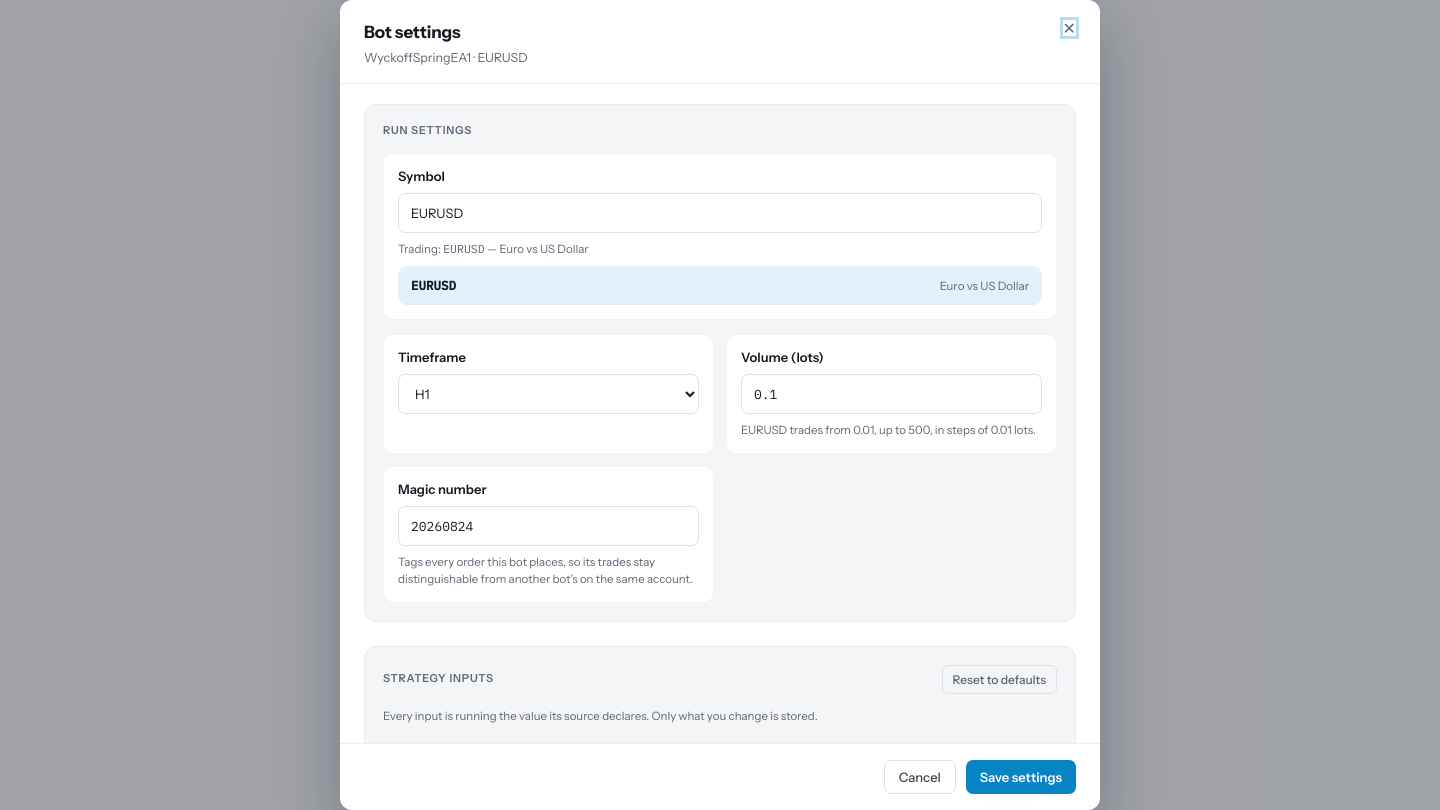
Scenario: bot settings panel › searches the broker instrument list server-side once the typing settles
Expected: the text "Euro vs US Dollar" is shown, [940,279,1029,293]
Replace the text in the search field labelled "Symbol" with "GBP" at [720, 213], box [398,193,1042,233]
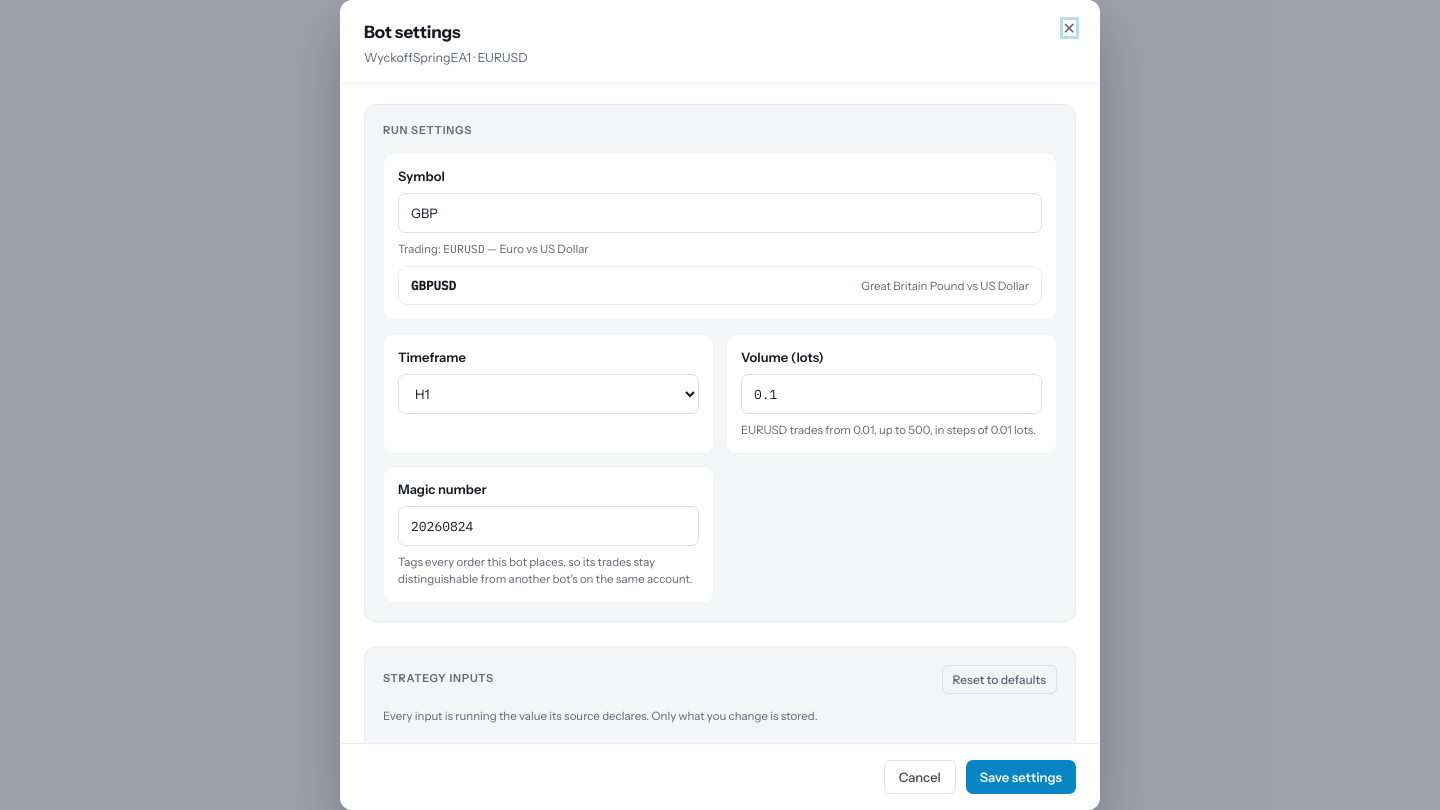
Result: the text "Great Britain Pound vs US Dollar" is shown at [861,279,1029,293]
Click the button "GBPUSD Great Britain Pound vs US Dollar" at [434, 285], box [399,267,1041,304]
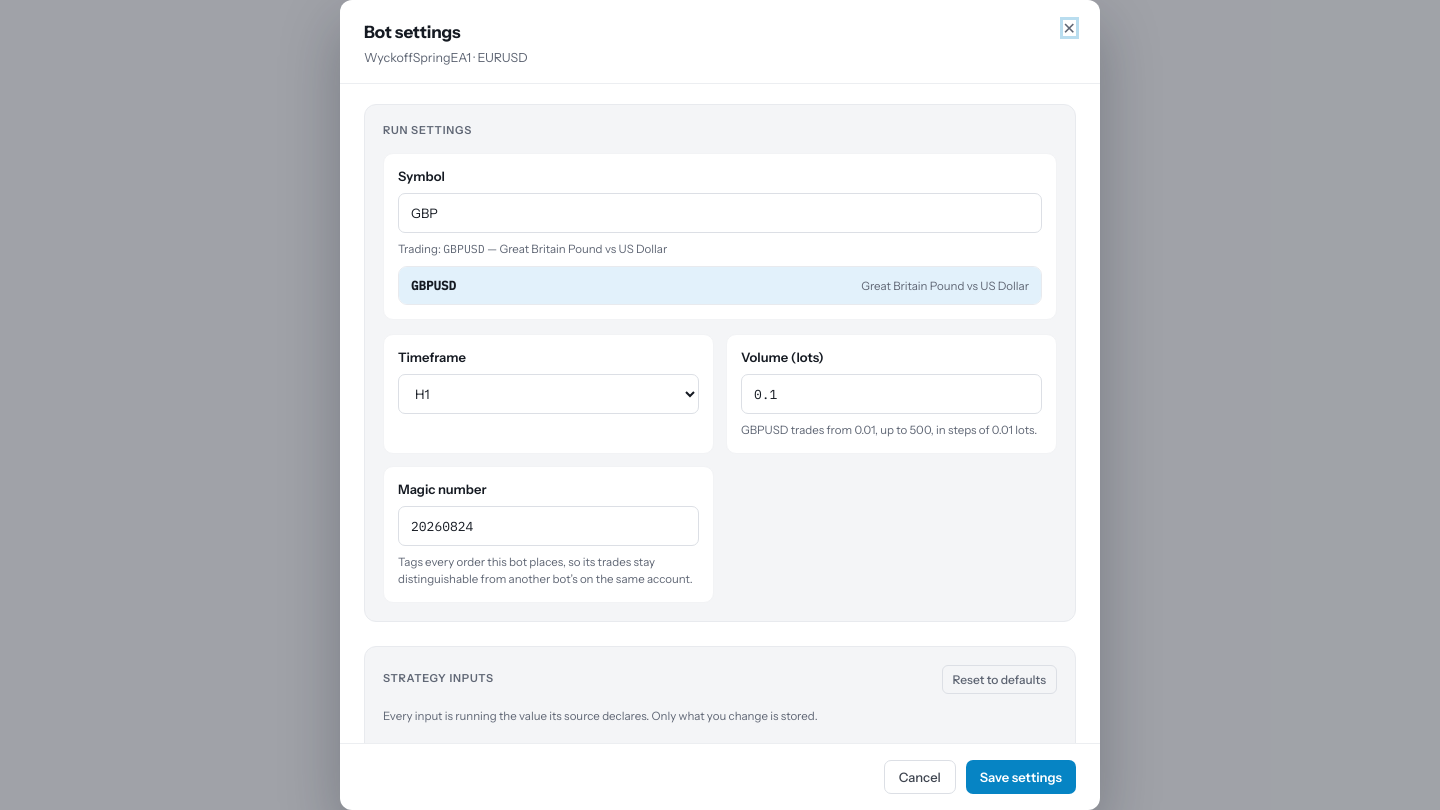
Result: the text "Trading: GBPUSD — Great Britain Pound vs US Dollar" is shown at [398,241,667,256]
